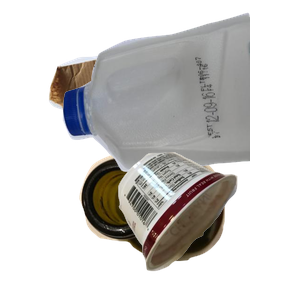cardboard: (46, 40, 226, 179)
glass: (77, 147, 295, 300)
plastic: (60, 10, 300, 175)
trash: (116, 149, 300, 300)
